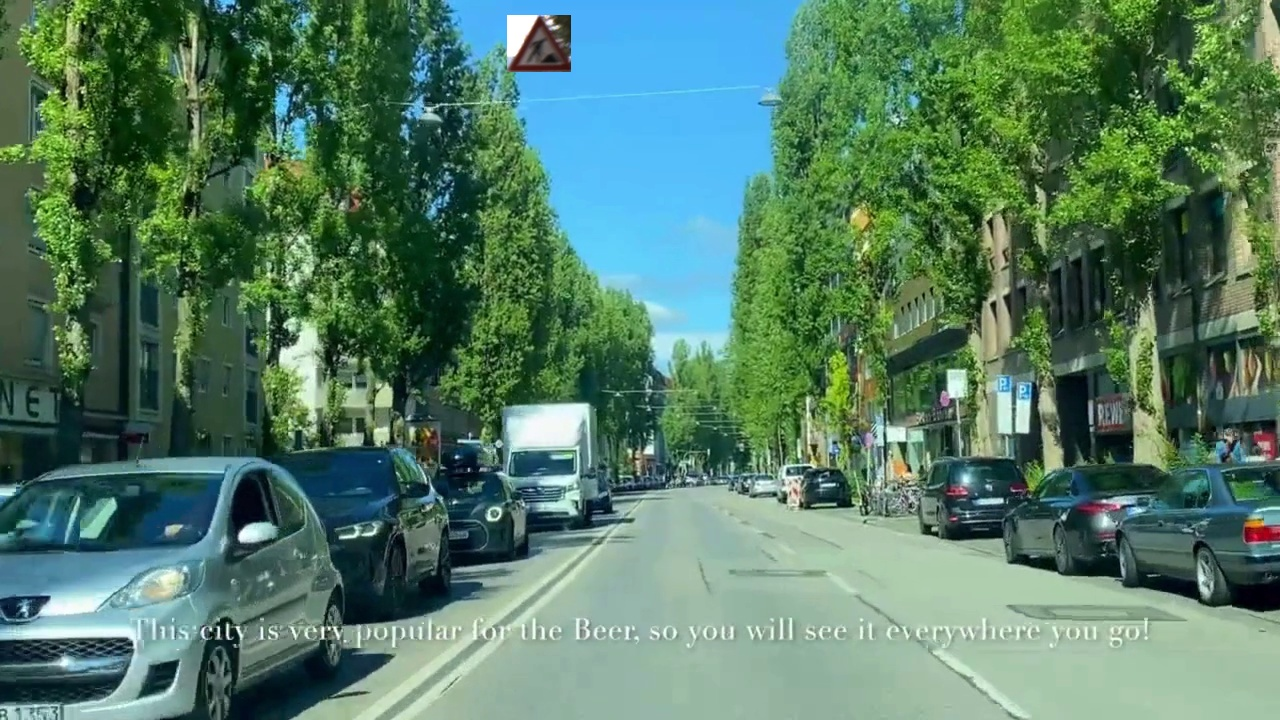Road work: (507, 15, 571, 72)
